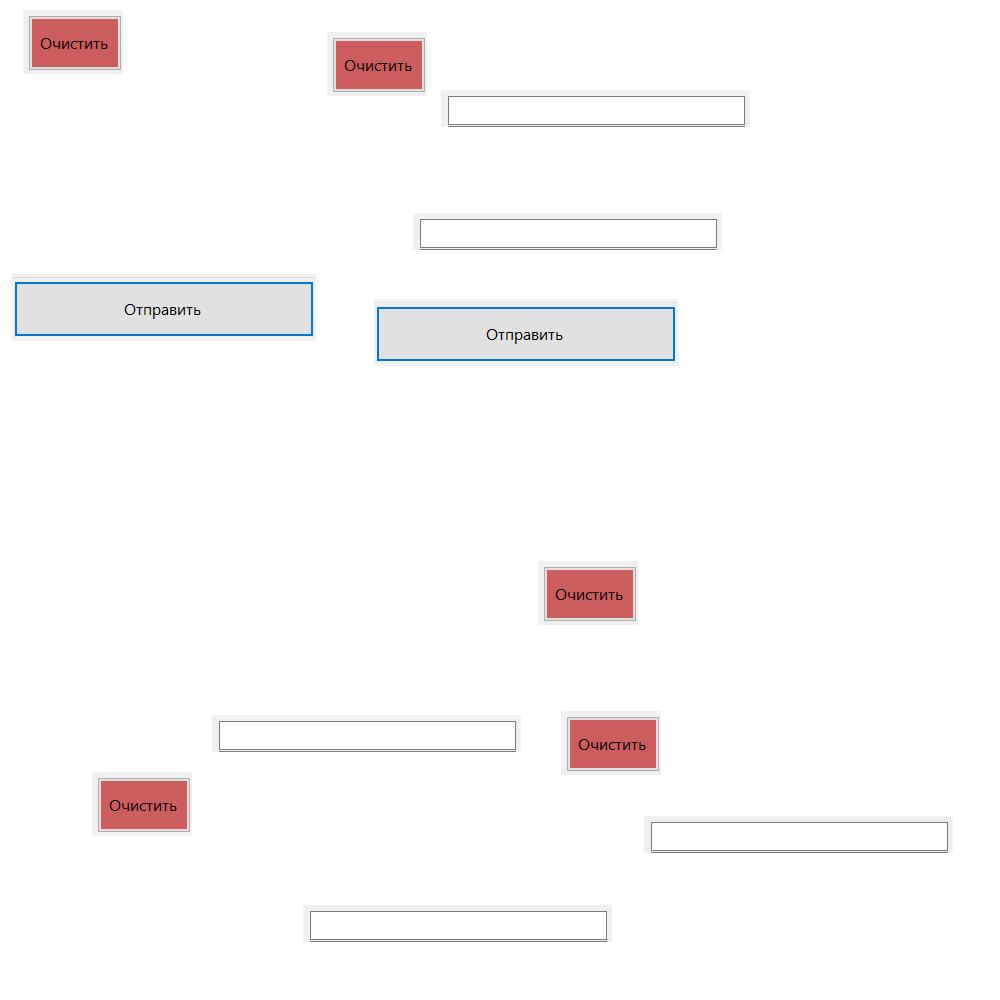Button: (12, 274, 316, 341), (374, 299, 678, 366), (327, 32, 427, 96), (538, 561, 638, 625), (561, 711, 661, 775), (92, 772, 192, 836), (23, 10, 123, 74)
EditText-: (303, 905, 612, 942), (413, 213, 722, 250), (441, 90, 750, 127), (212, 715, 521, 752), (644, 816, 953, 853)
